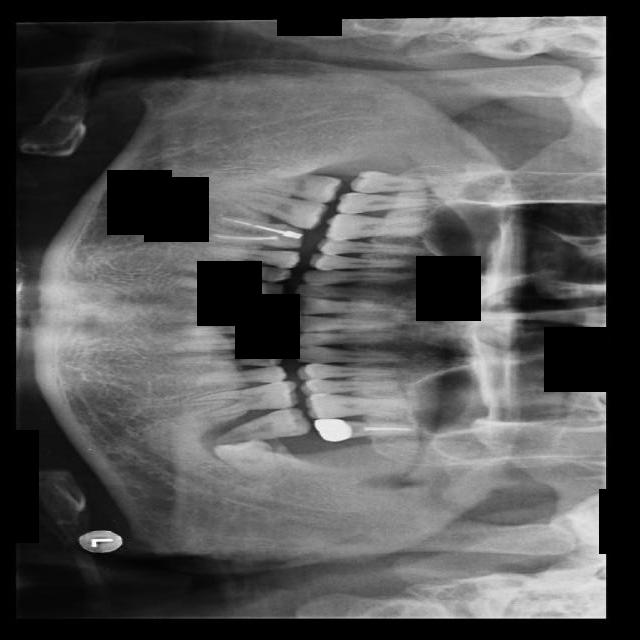3M ESPE Implant: (350, 171, 434, 193)
52: (313, 417, 353, 442)
73: (207, 214, 284, 247), (342, 420, 415, 441), (44, 588, 54, 602)
BioHorizons Implant: (313, 418, 416, 442)
Biomet 3i Implant: (210, 435, 282, 486)
Blue Sky Bio Implant: (211, 406, 309, 445)
Caries: (336, 191, 439, 219)
Implant: (224, 185, 327, 232)
Keystone Dental Implant: (249, 166, 343, 206)
